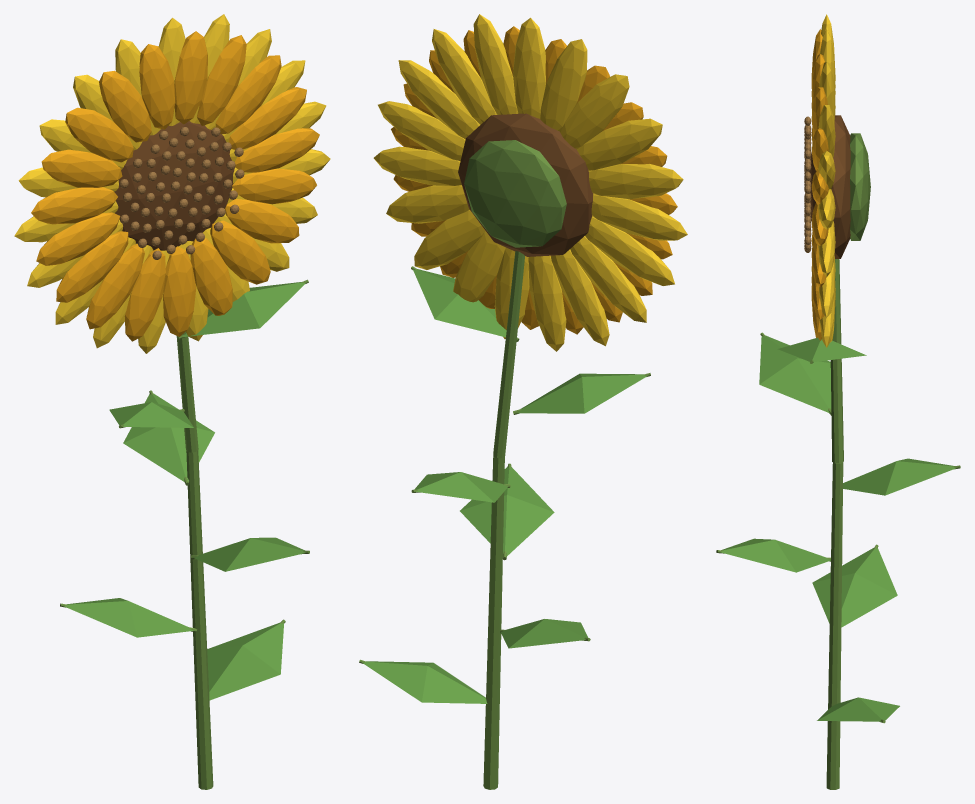
The model's file is sunflower-2.glb.
The picture shows the model from 3 angles, left to right: view 1: azimuth 30°, elevation 25°; view 2: azimuth 150°, elevation 25°; view 3: azimuth 270°, elevation 25°; orthographic projection. The views are drawn at different scales.
Parts seen in each view (by area): view 1: sunflower-2; view 2: sunflower-2; view 3: sunflower-2.
Boxes of the visible parts, box(x1,y1,x2,y2) form: sunflower-2: box(14, 14, 330, 789); sunflower-2: box(359, 14, 687, 789); sunflower-2: box(716, 14, 960, 789).
Size of the model in its own units: 1.38 by 3.24 by 0.9683.
